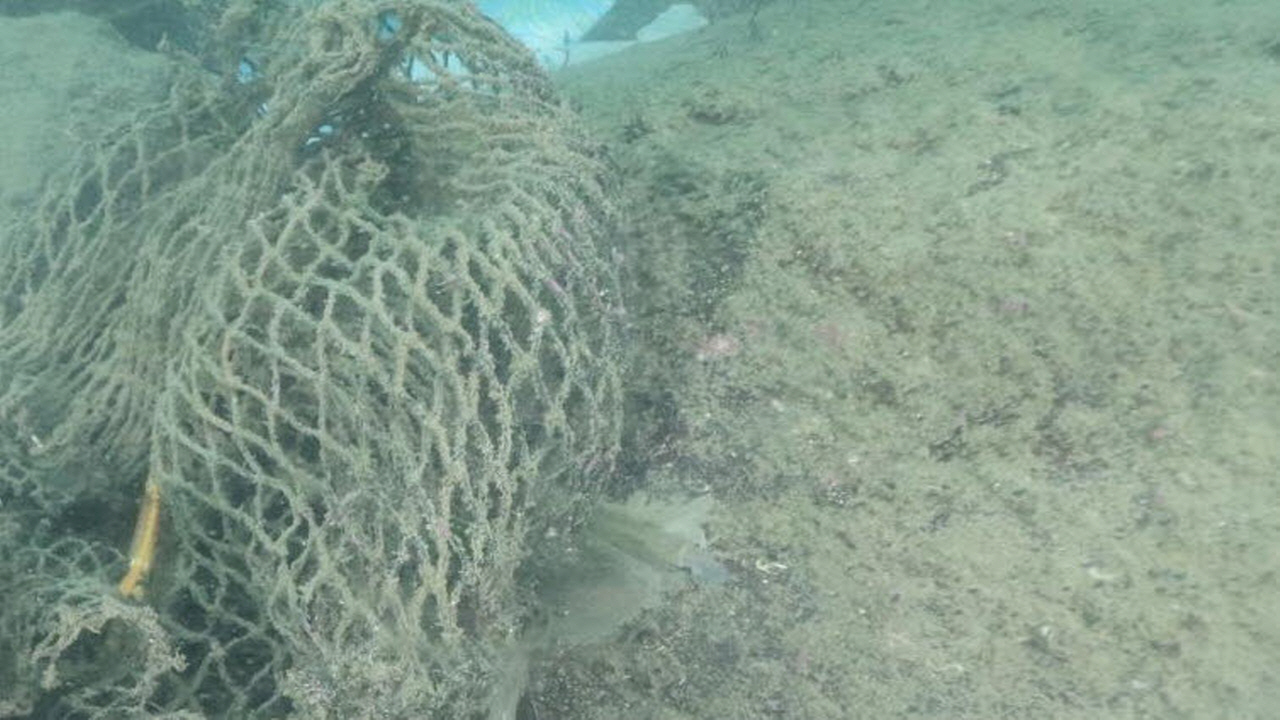fish net: (0, 0, 626, 720)
